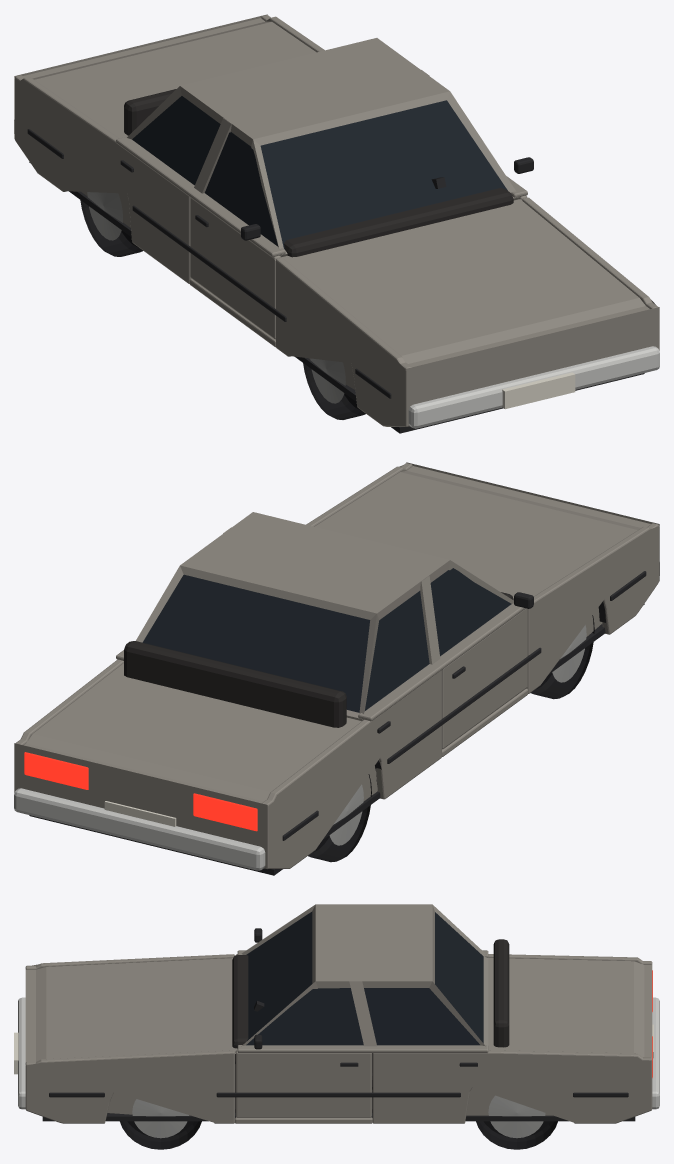
File: PM_Car_Sedan.fbx
3 views of the same model, one above another, from view 1: azimuth 30°, elevation 25°; view 2: azimuth 150°, elevation 25°; view 3: azimuth 270°, elevation 25° (orthographic). The views are drawn at different scales.
Visible parts, largest first — view 1: Body, Door_FR, Wheel_RR, Wheel_FR; view 2: Body, Door_FR, Wheel_RR, Wheel_FR; view 3: Body, Door_FL, Wheel_RL, Wheel_FL.
Part boxes in pixels (x1,y1,x2,y2): Body: [14, 14, 659, 433]; Door_FR: [190, 132, 280, 339]; Wheel_RR: [80, 192, 142, 256]; Wheel_FR: [303, 358, 365, 419]; Body: [14, 462, 659, 875]; Door_FR: [430, 568, 527, 749]; Wheel_RR: [308, 774, 371, 862]; Wheel_FR: [531, 615, 594, 699]; Body: [14, 904, 659, 1123]; Door_FL: [235, 989, 371, 1117]; Wheel_RL: [476, 1095, 557, 1149]; Wheel_FL: [120, 1099, 201, 1149].
Size of the model in its own units: 2.06 by 1.37 by 4.97.
